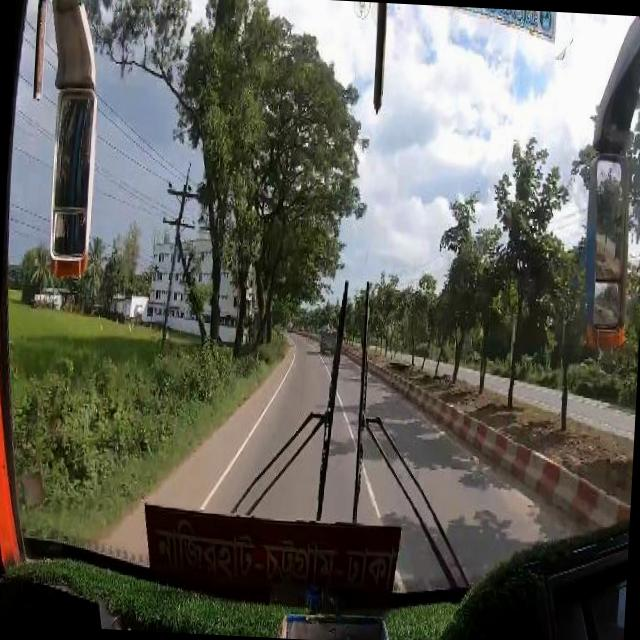truck: (320, 324, 336, 351)
